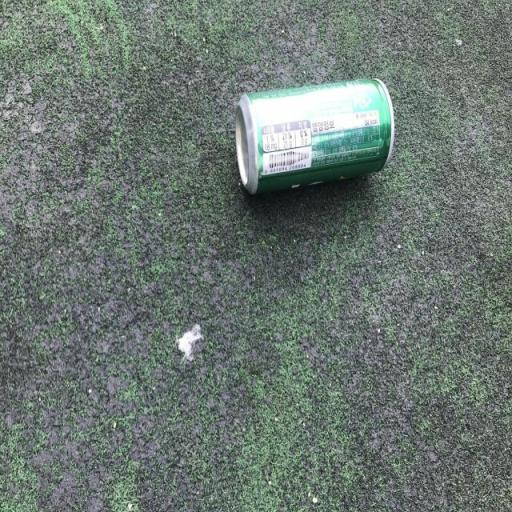metal: (224, 58, 416, 204)
